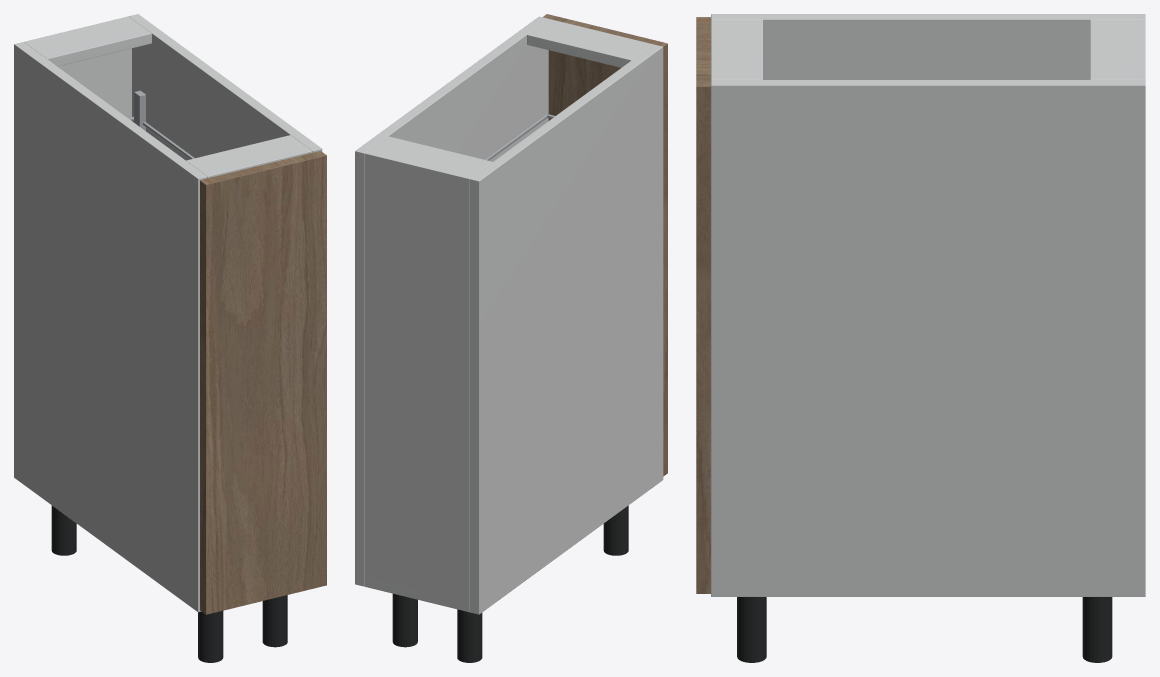
File: oppein-ply-mnw-bsr09.glb
3 renders of one model, left to right at view 1: azimuth 30°, elevation 25°; view 2: azimuth 150°, elevation 25°; view 3: azimuth 270°, elevation 25°, orthographic. The views are drawn at different scales.
Visible parts, largest first — view 1: Cabinet side, Door, Cabinet side.001, Cabinet back, Top support rail, Top support rail.001, Adjustable foot.001, Adjustable foot.003, Adjustable foot; view 2: Cabinet side, Cabinet back, Cabinet side.001, Door, Top support rail.001, Top support rail, Adjustable foot, Adjustable foot.002, Adjustable foot.001, Cabinet bottom; view 3: Cabinet side.001, Cabinet side, Door, Top support rail.001, Top support rail, Adjustable foot.002, Adjustable foot.003.
Boxes of the visible parts, box(x1,y1,x2,y2) form: Cabinet side: box(14, 42, 207, 612); Door: box(200, 151, 326, 614); Cabinet side.001: box(129, 14, 322, 160); Cabinet back: box(24, 16, 131, 117); Top support rail: box(26, 19, 151, 66); Top support rail.001: box(186, 135, 312, 178); Adjustable foot.001: box(198, 611, 223, 662); Adjustable foot.003: box(262, 595, 287, 647); Adjustable foot: box(51, 505, 76, 555); Cabinet side: box(469, 44, 663, 614); Cabinet back: box(365, 151, 472, 612); Cabinet side.001: box(355, 16, 548, 586); Door: box(543, 14, 667, 476); Top support rail.001: box(527, 19, 652, 67); Top support rail: box(369, 136, 492, 176); Adjustable foot: box(457, 609, 482, 662); Adjustable foot.002: box(392, 593, 417, 647); Adjustable foot.001: box(603, 505, 628, 555); Cabinet bottom: box(365, 577, 466, 611); Cabinet side.001: box(711, 80, 1145, 596); Cabinet side: box(711, 14, 1145, 79); Door: box(696, 17, 710, 593); Top support rail.001: box(711, 19, 762, 79); Top support rail: box(1090, 19, 1141, 79); Adjustable foot.002: box(1082, 597, 1112, 662); Adjustable foot.003: box(737, 597, 766, 662).
Bounding box in the file's own units: 0.2286 × 0.8763 × 0.6064.
4 materials, 1 textured.
